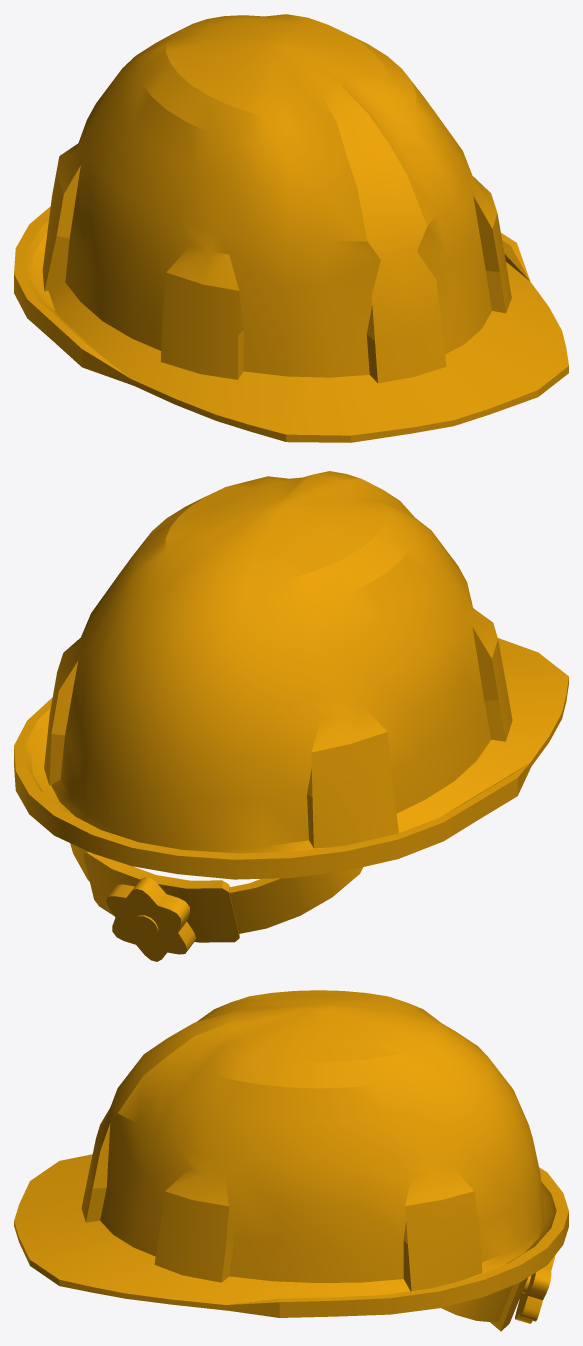
File: Hard.fbx
3 renders of one model, top to bottom at view 1: azimuth 30°, elevation 25°; view 2: azimuth 150°, elevation 25°; view 3: azimuth 270°, elevation 25°, orthographic. The views are drawn at different scales.
Parts seen in each view (by area): view 1: Hat; view 2: Hat, PlasticBand, RotationThing, Band; view 3: Hat, RotationThing, Band, PlasticBand.
Part boxes in pixels (bbox=[...]): Hat: bbox=[14, 14, 568, 442]; Hat: bbox=[14, 471, 568, 879]; PlasticBand: bbox=[83, 852, 239, 942]; RotationThing: bbox=[106, 877, 196, 961]; Band: bbox=[70, 843, 363, 933]; Hat: bbox=[14, 990, 568, 1317]; RotationThing: bbox=[515, 1255, 555, 1323]; Band: bbox=[441, 1285, 512, 1322]; PlasticBand: bbox=[490, 1278, 527, 1331].
Size of the model in its own units: 189 by 152 by 242.
